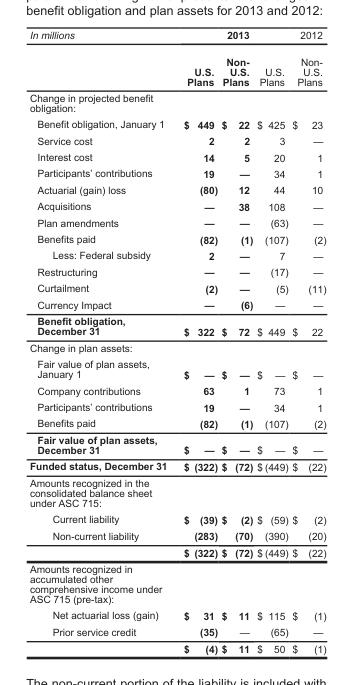table: (28, 28, 325, 653)
table column: (28, 28, 174, 653), (174, 28, 218, 653), (218, 28, 254, 653), (289, 28, 325, 653), (254, 28, 289, 653)
table column header: (28, 28, 325, 89)
table projected row header: (28, 560, 325, 606), (28, 474, 325, 510), (28, 89, 325, 115), (28, 339, 325, 355)
table row: (28, 28, 325, 89), (28, 560, 325, 606), (28, 474, 325, 510), (28, 312, 325, 339), (28, 355, 325, 382), (28, 89, 325, 115), (28, 431, 325, 457), (28, 115, 325, 132), (28, 164, 325, 181), (28, 197, 325, 214), (28, 230, 325, 247), (28, 279, 325, 296), (28, 414, 325, 431), (28, 457, 325, 474), (28, 510, 325, 527), (28, 527, 325, 544), (28, 606, 325, 623), (28, 132, 325, 148), (28, 148, 325, 164), (28, 181, 325, 197), (28, 214, 325, 230), (28, 247, 325, 263), (28, 263, 325, 279), (28, 296, 325, 312), (28, 339, 325, 355), (28, 382, 325, 398), (28, 398, 325, 414), (28, 544, 325, 560), (28, 623, 325, 639), (28, 639, 325, 653)
